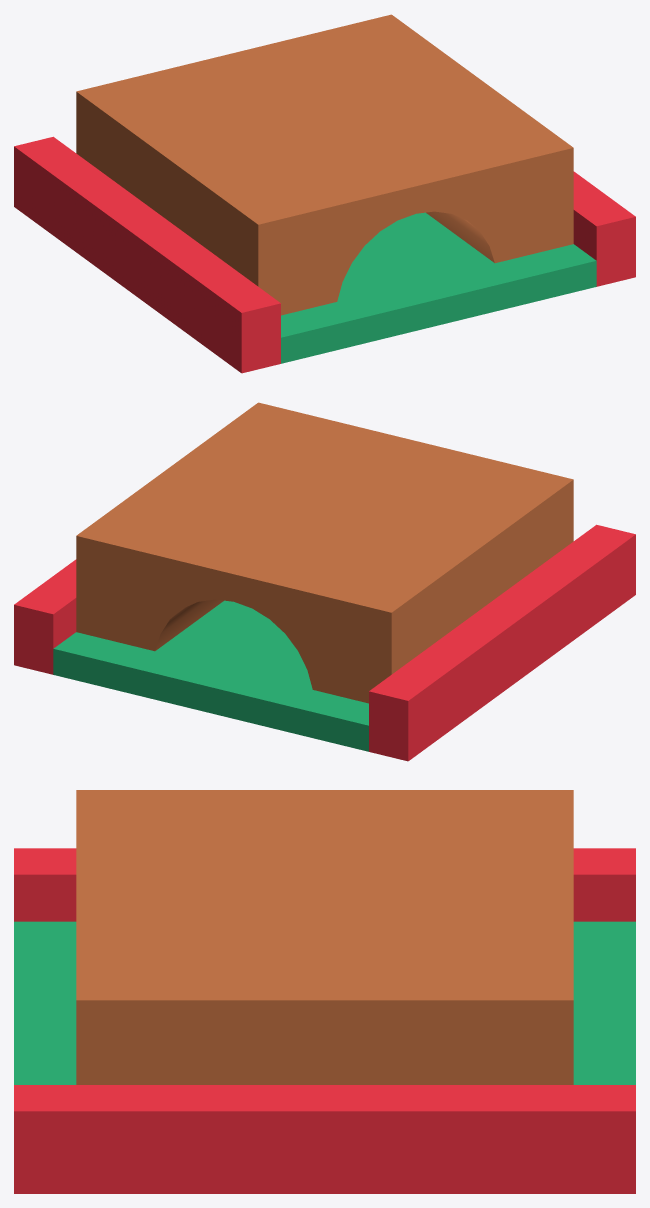
Rendered from tunnelWide.fbx.
3 views of the same model, one above another, from view 1: azimuth 30°, elevation 25°; view 2: azimuth 150°, elevation 25°; view 3: azimuth 270°, elevation 25° (orthographic). The views are drawn at different scales.
Visible parts, largest first — view 1: tunnelWide; view 2: tunnelWide; view 3: tunnelWide.
Boxes of the visible parts, box(x1,y1,x2,y2) form: tunnelWide: box(14, 14, 635, 373); tunnelWide: box(14, 402, 635, 761); tunnelWide: box(14, 790, 635, 1193).
Bounding box in the file's own units: 10 × 2.97 × 10.
